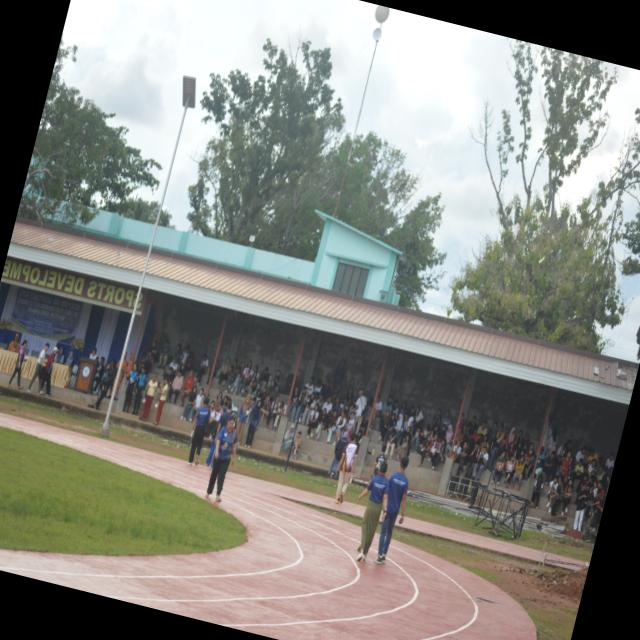person: (374, 457, 408, 564), (356, 461, 388, 561), (205, 415, 235, 502), (187, 397, 209, 465), (8, 340, 26, 389)
